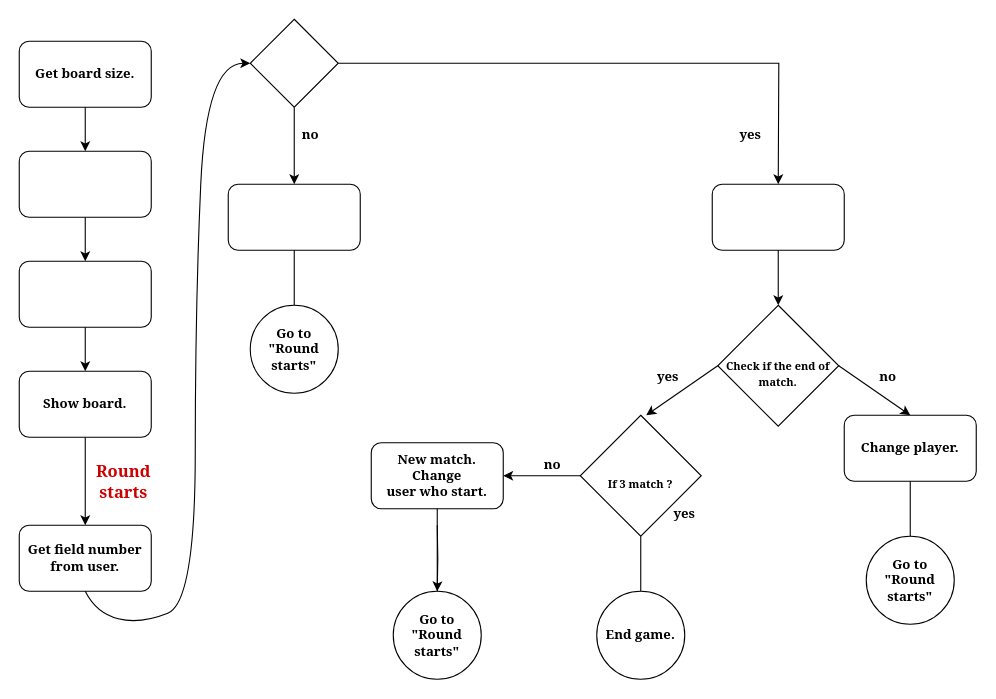
Image size: 996x699. Some labels were removed from this diagram. Here are the shapes that lost their labels. From the top down, the centre of each, then its label:
point (293, 62): Check if empty
point (84, 183): Get players name and mark.
point (293, 216): Show information that not empty.
point (777, 216): Put mark to field.
point (84, 293): Get information who starts game.
